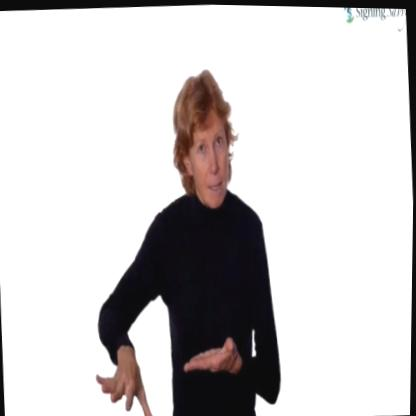Expensive: (90, 319, 244, 416)
